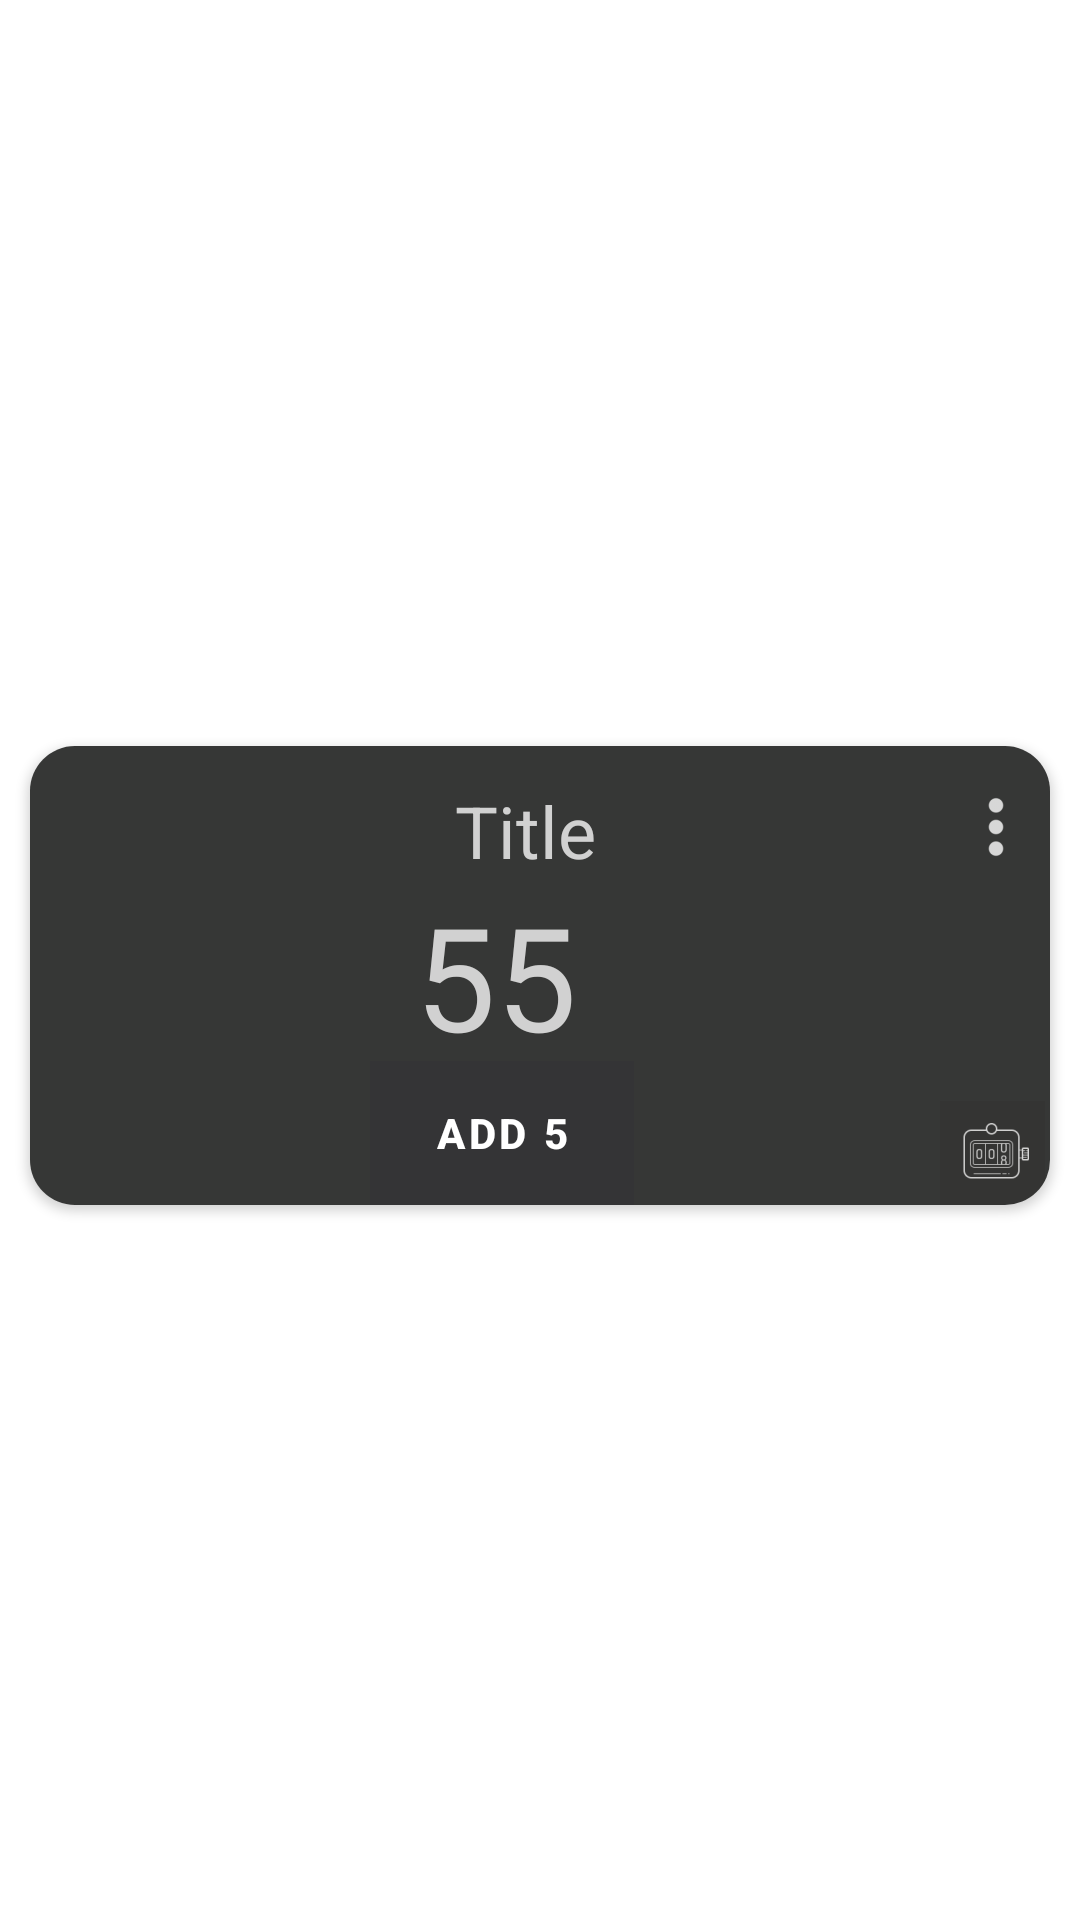

Named icons in this screenshot (1080*1920) and their bounding boxes, {"left": x1, "top": y1, "right": x2, "bottom": y2}:
counting: {"left": 963, "top": 1123, "right": 1029, "bottom": 1179}
dots: {"left": 988, "top": 798, "right": 1004, "bottom": 856}
